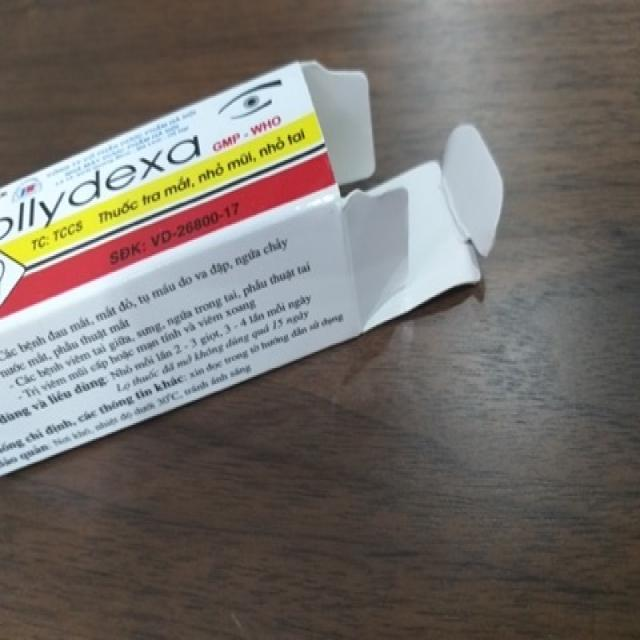PaperCardboard: (1, 60, 507, 488)
